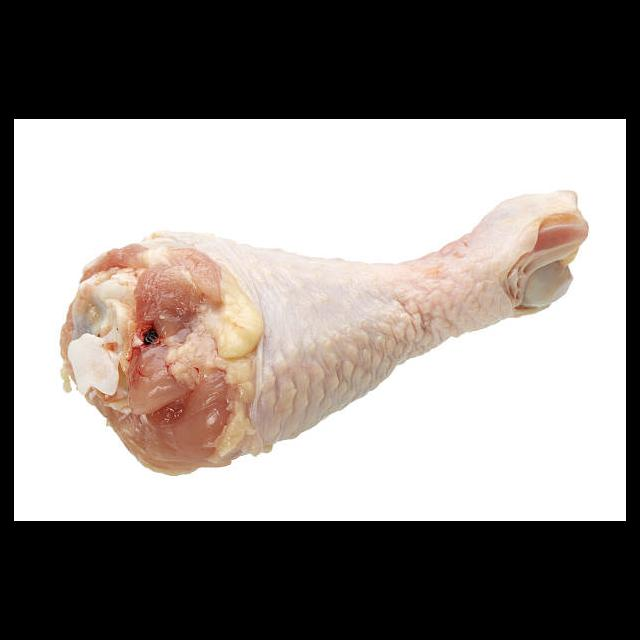chicken: (60, 187, 590, 476)
